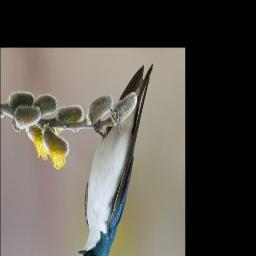Swallow: (77, 60, 154, 256)
